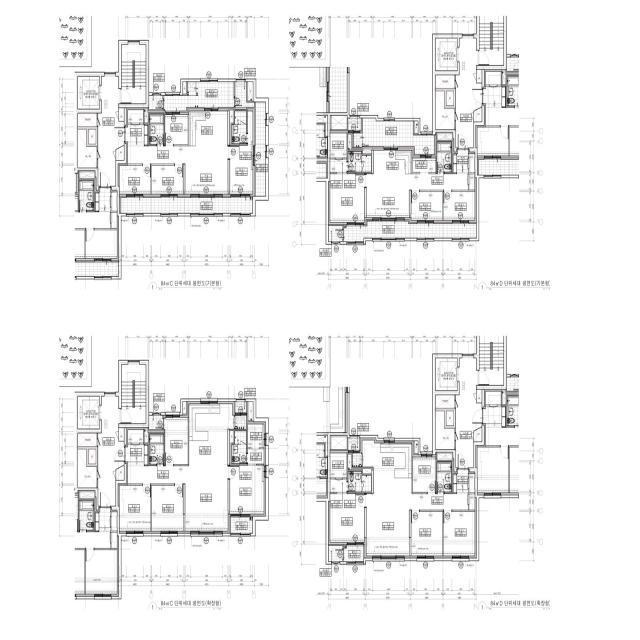space_balconi: (344, 221, 477, 242), (362, 118, 434, 154), (164, 82, 234, 111), (121, 198, 253, 213), (256, 102, 265, 196), (231, 518, 253, 533), (344, 546, 364, 562)
space_bedroom: (230, 111, 253, 194), (330, 174, 365, 222), (230, 465, 264, 514), (330, 494, 364, 542), (119, 485, 151, 531), (443, 512, 475, 556), (152, 486, 183, 531), (411, 512, 442, 556), (165, 418, 188, 464), (119, 166, 151, 194), (152, 166, 183, 194), (444, 192, 475, 220), (411, 192, 442, 220), (413, 457, 436, 492), (165, 115, 188, 145)
space_dressroom: (330, 133, 347, 172), (330, 453, 347, 492), (248, 424, 264, 464)
space_elevator: (436, 358, 457, 391), (436, 38, 457, 71), (78, 397, 99, 429), (78, 77, 99, 109)
space_elevator_hall: (456, 38, 482, 148), (98, 76, 124, 186), (456, 358, 482, 468), (98, 397, 124, 506)
space_front: (125, 444, 148, 466), (125, 125, 148, 146), (453, 470, 468, 494), (453, 150, 468, 173)
space_kitchen: (189, 404, 234, 465), (362, 440, 412, 494), (189, 111, 228, 146), (374, 150, 412, 174)
space_living_room: (128, 466, 228, 531), (366, 494, 468, 556), (128, 146, 228, 194), (366, 174, 468, 218)
space_other: (78, 449, 97, 488), (436, 91, 455, 129), (78, 130, 97, 168), (436, 411, 455, 449), (413, 158, 436, 172), (436, 395, 455, 408), (78, 433, 97, 446), (78, 114, 97, 127), (436, 75, 455, 88), (348, 454, 362, 470), (329, 226, 343, 242), (329, 546, 343, 561), (332, 116, 347, 130), (149, 415, 163, 429), (128, 430, 143, 443), (128, 110, 143, 123), (331, 437, 347, 449), (149, 96, 163, 109), (235, 416, 246, 429), (230, 431, 234, 464), (230, 111, 234, 144), (352, 453, 361, 467), (446, 91, 454, 106), (88, 129, 96, 144), (474, 427, 482, 442), (446, 411, 454, 426), (474, 107, 482, 122), (469, 154, 475, 173), (469, 474, 475, 493), (354, 133, 362, 147), (116, 146, 124, 160), (116, 466, 124, 480), (89, 449, 96, 464), (469, 174, 475, 190), (469, 494, 475, 510), (248, 82, 253, 101), (438, 454, 452, 460), (438, 134, 452, 140), (249, 402, 253, 420), (477, 70, 482, 83), (477, 390, 482, 403), (119, 428, 124, 441), (119, 108, 124, 121), (144, 429, 148, 443), (144, 109, 148, 123), (414, 441, 418, 453), (363, 469, 372, 474), (348, 135, 351, 150), (415, 121, 418, 134), (183, 82, 186, 94), (183, 402, 186, 414), (363, 150, 371, 154)
space_outdoor_room: (235, 82, 254, 107), (348, 118, 361, 130), (348, 438, 359, 450), (235, 402, 246, 413)
space_staircase: (121, 45, 146, 104), (479, 6, 504, 65), (479, 327, 504, 385), (121, 365, 146, 423)
space_toilet: (232, 111, 246, 144), (232, 431, 246, 464), (348, 472, 371, 492), (348, 152, 371, 172), (437, 462, 452, 492), (149, 434, 164, 464), (150, 114, 164, 144), (437, 142, 451, 172)
